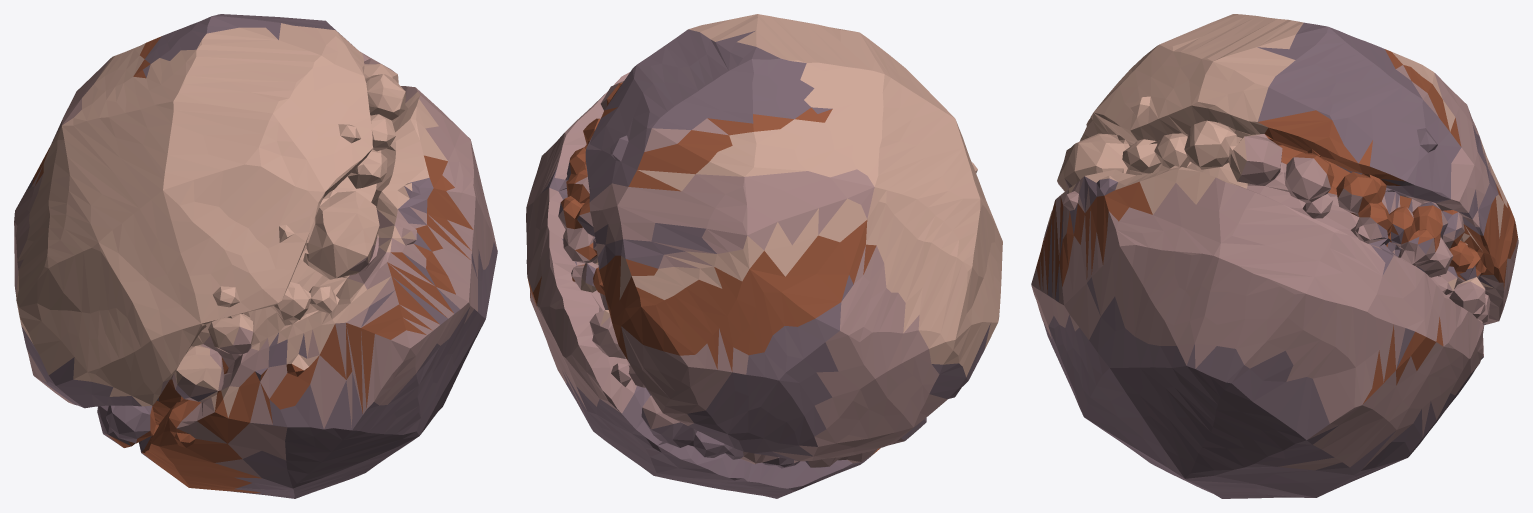
Rendered from rock_copper.glb.
3 views of the same model, side by side, from view 1: azimuth 30°, elevation 25°; view 2: azimuth 150°, elevation 25°; view 3: azimuth 270°, elevation 25° (orthographic).
Visible parts, largest first — view 1: geometry_0; view 2: geometry_0; view 3: geometry_0.
Part boxes in pixels (bbox=[...]): geometry_0: bbox=[14, 14, 497, 498]; geometry_0: bbox=[526, 14, 1002, 498]; geometry_0: bbox=[1031, 14, 1518, 498].
Size of the model in its own units: 1.98 by 1.98 by 1.98.
